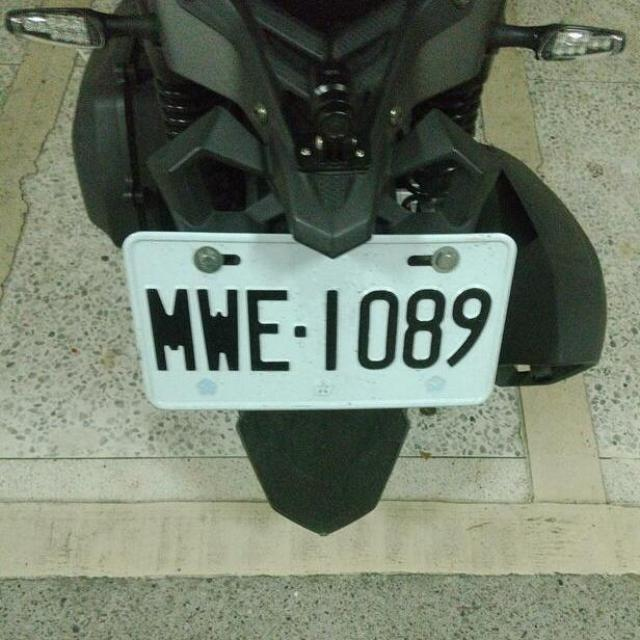W: (116, 219, 522, 423)
